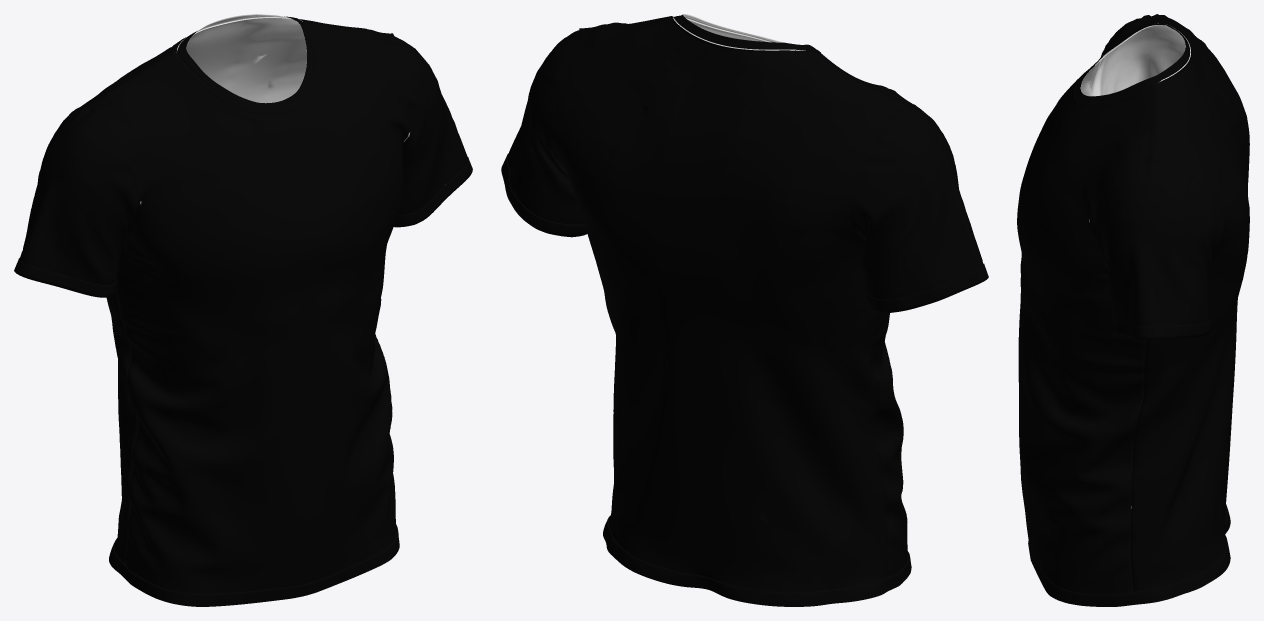
Rendered from remera.glb.
3 renders of one model, left to right at view 1: azimuth 30°, elevation 25°; view 2: azimuth 150°, elevation 25°; view 3: azimuth 270°, elevation 25°, orthographic. The views are drawn at different scales.
Parts seen in each view (by area): view 1: T_Shirt_exterieur_ext_0_0, T_Shirt_int_int_0_1; view 2: T_Shirt_exterieur_ext_0_0, T_Shirt_int_int_0_1; view 3: T_Shirt_exterieur_ext_0_0, T_Shirt_int_int_0_1.
Part boxes in pixels (x1,y1,x2,y2): T_Shirt_exterieur_ext_0_0: (14,16,472,606); T_Shirt_int_int_0_1: (140,14,409,204); T_Shirt_exterieur_ext_0_0: (501,14,988,606); T_Shirt_int_int_0_1: (673,14,805,50); T_Shirt_exterieur_ext_0_0: (1017,14,1249,606); T_Shirt_int_int_0_1: (1080,23,1190,508).
Bounding box in the file's own units: 0.6394 × 0.6992 × 0.2895.
Materials: 2 (2 with a texture image).
